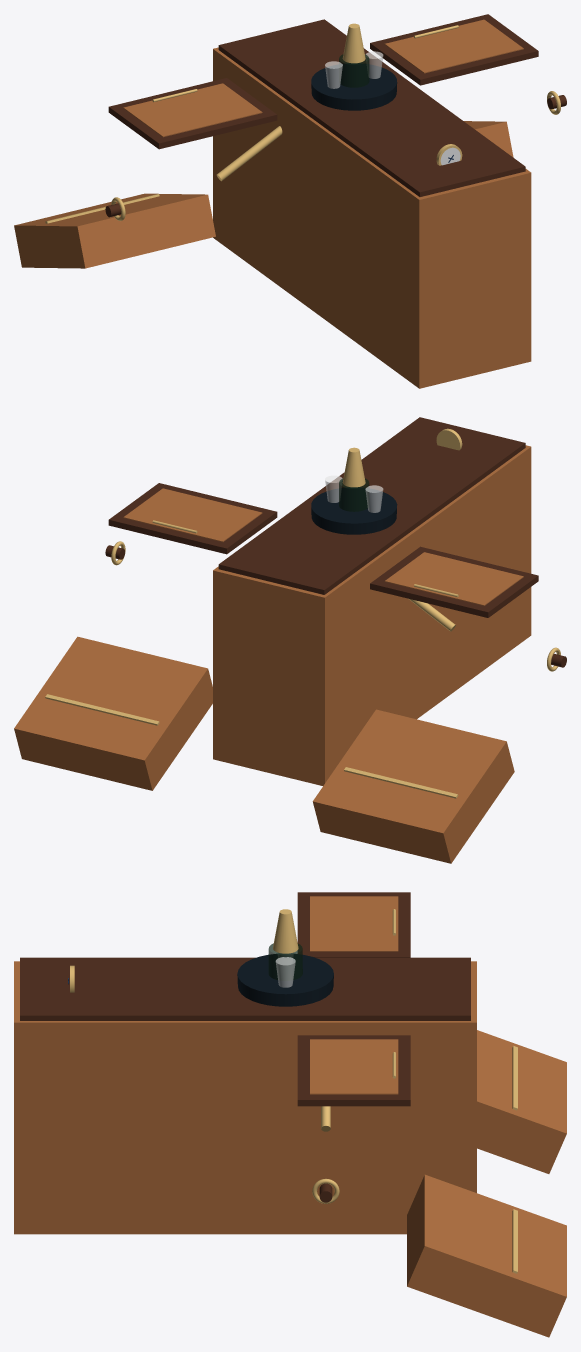
File: cockpit_coachbuilt_vip_salon.glb
The picture shows the model from 3 angles, top to bottom: view 1: azimuth 30°, elevation 25°; view 2: azimuth 150°, elevation 25°; view 3: azimuth 270°, elevation 25°; orthographic projection. The views are drawn at different scales.
Parts seen in each view (by area): view 1: Vip_CocktailBar_Console, HeatedFootrest_Left, ExecutiveDesk_Left, ExecutiveDesk_Right, HeatedFootrest_Right; view 2: Vip_CocktailBar_Console, HeatedFootrest_Left, HeatedFootrest_Right, ExecutiveDesk_Left, ExecutiveDesk_Right; view 3: Vip_CocktailBar_Console, HeatedFootrest_Right, HeatedFootrest_Left, ExecutiveDesk_Right, ExecutiveDesk_Left.
Part boxes in pixels (box(x1,y1,x2,y2)): Vip_CocktailBar_Console: box(213, 19, 531, 388); HeatedFootrest_Left: box(14, 193, 215, 268); ExecutiveDesk_Left: box(108, 78, 282, 181); ExecutiveDesk_Right: box(370, 14, 538, 85); HeatedFootrest_Right: box(464, 121, 513, 157); Vip_CocktailBar_Console: box(213, 417, 531, 785); HeatedFootrest_Left: box(312, 709, 514, 863); HeatedFootrest_Right: box(14, 636, 212, 790); ExecutiveDesk_Left: box(370, 546, 538, 631); ExecutiveDesk_Right: box(108, 483, 277, 554); Vip_CocktailBar_Console: box(14, 909, 476, 1234); HeatedFootrest_Right: box(407, 1174, 566, 1337); HeatedFootrest_Left: box(477, 1030, 566, 1173); ExecutiveDesk_Right: box(297, 1035, 410, 1131); ExecutiveDesk_Left: box(297, 892, 410, 957).
Bounding box in the file's own units: 1.46 × 0.8457 × 1.37.
